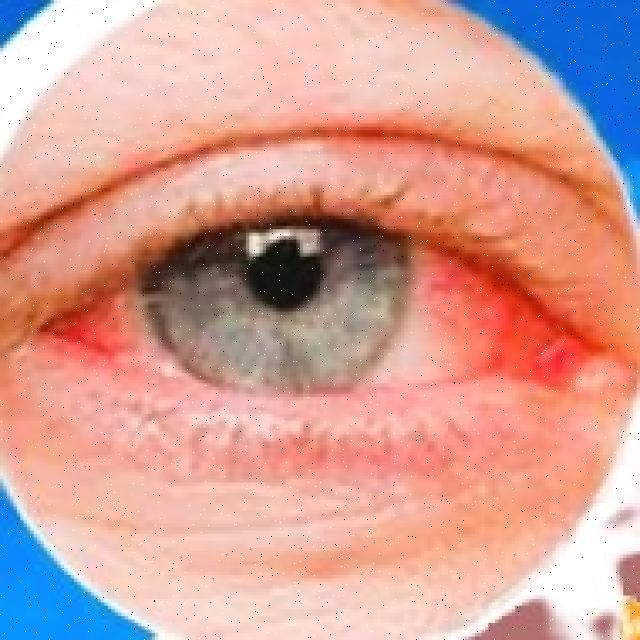Conjunctivitis: (38, 225, 608, 391)
